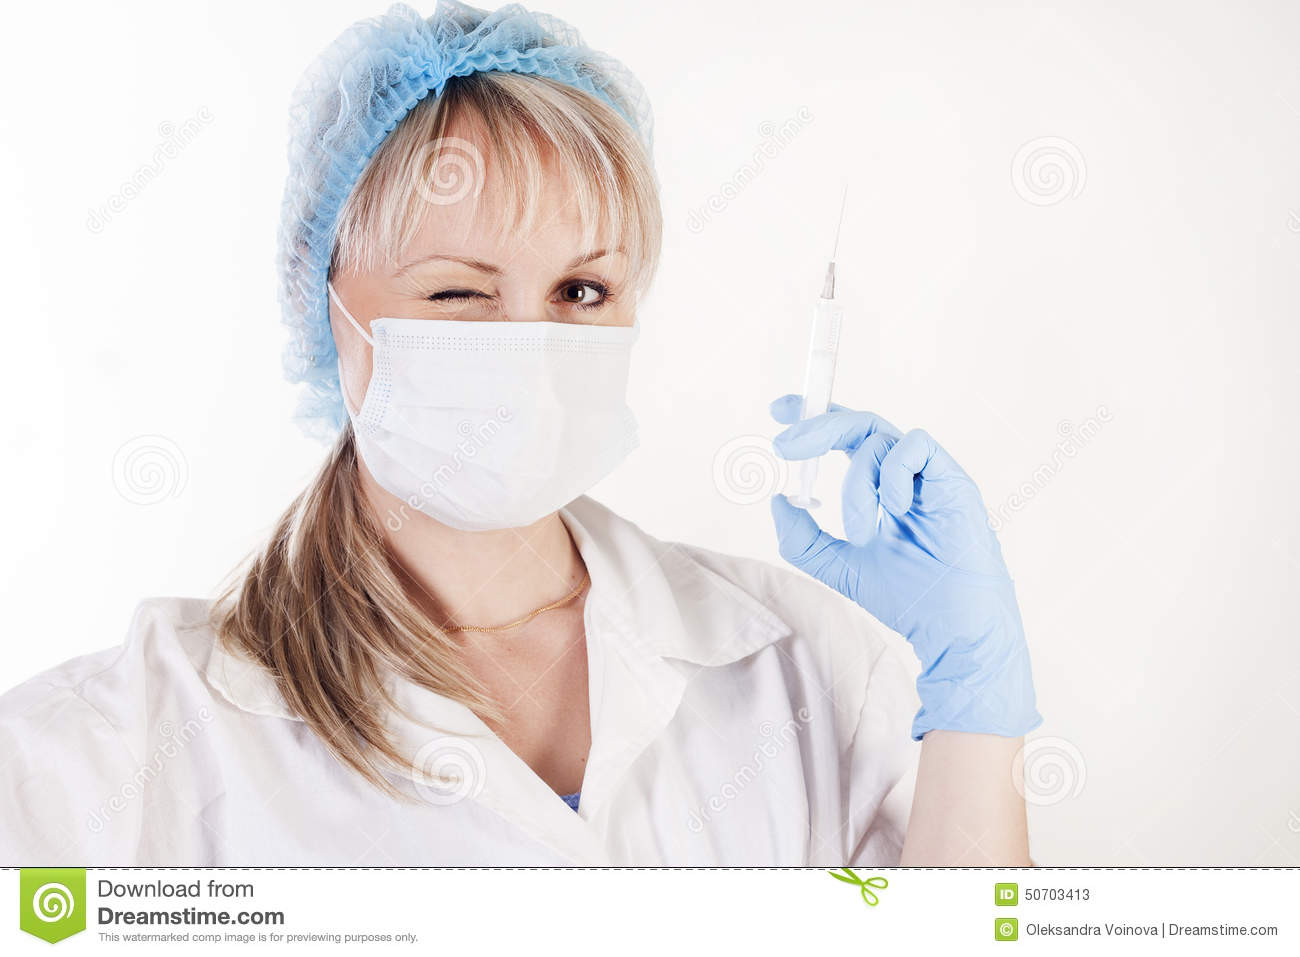mask: (351, 307, 638, 539)
